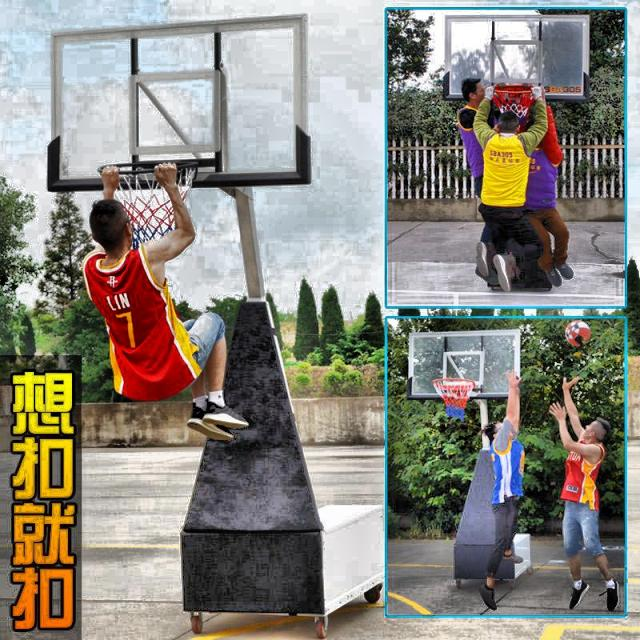rim: (430, 378, 476, 418)
